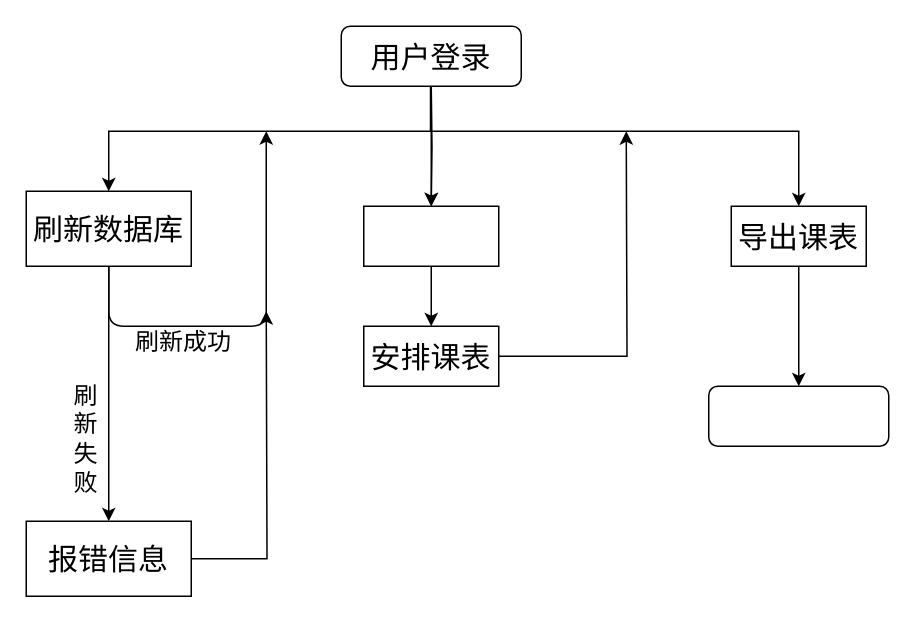
Image size: 915x623. Some labels were removed from this diagram. Here are the shapes that lost their labels. From the top down, the centre of each, then its label:
At pixel 430 235: "查询课程".
At pixel 798 415: "课表方案".
